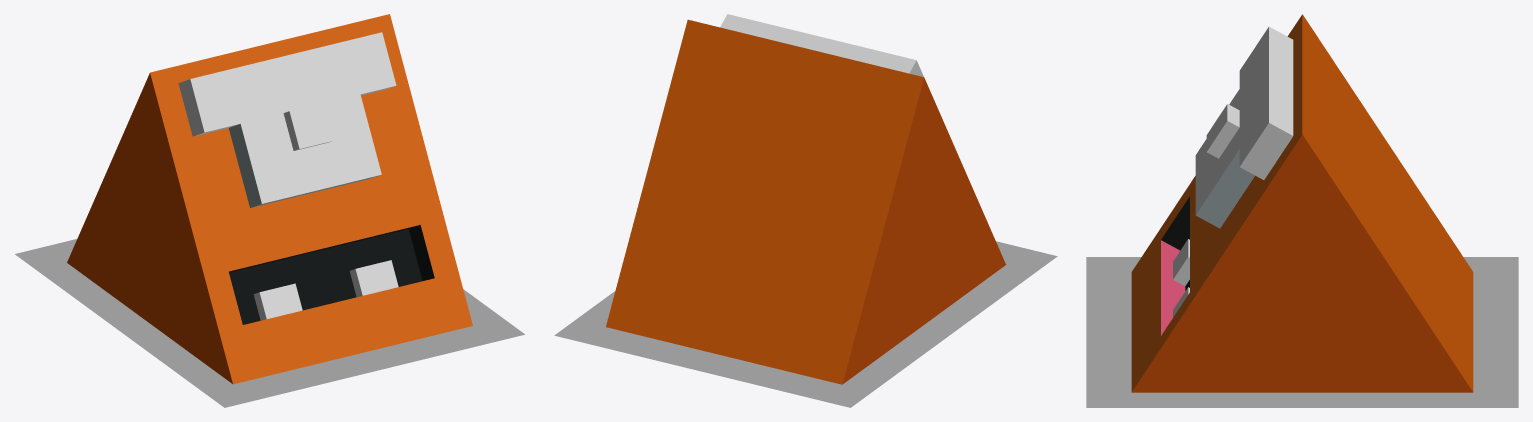
File: EN_MobileBit_Orange.fbx
3 renders of one model, left to right at view 1: azimuth 30°, elevation 25°; view 2: azimuth 150°, elevation 25°; view 3: azimuth 270°, elevation 25°, orthographic. The views are drawn at different scales.
Parts seen in each view (by area): view 1: Body, Mouth, Shadow, Eyebrow, Eye, Pupil; view 2: Body, Shadow, Eyebrow; view 3: Body, Shadow, Eyebrow, Mouth, Eye, Pupil.
Boxes of the visible parts, <box> form: Body: <box>67,14,472,384</box>; Mouth: <box>243,260,448,378</box>; Shadow: <box>15,239,524,407</box>; Eyebrow: <box>178,32,396,136</box>; Eye: <box>228,94,381,207</box>; Pupil: <box>283,103,333,150</box>; Body: <box>606,19,1005,384</box>; Shadow: <box>554,241,1057,407</box>; Eyebrow: <box>720,14,923,76</box>; Body: <box>1131,14,1473,392</box>; Shadow: <box>1086,257,1518,407</box>; Eyebrow: <box>1239,26,1293,179</box>; Mouth: <box>1131,239,1189,379</box>; Eye: <box>1195,89,1254,228</box>; Pupil: <box>1206,104,1239,158</box>.
Size of the model in its own units: 62.68 by 50 by 75.87.
